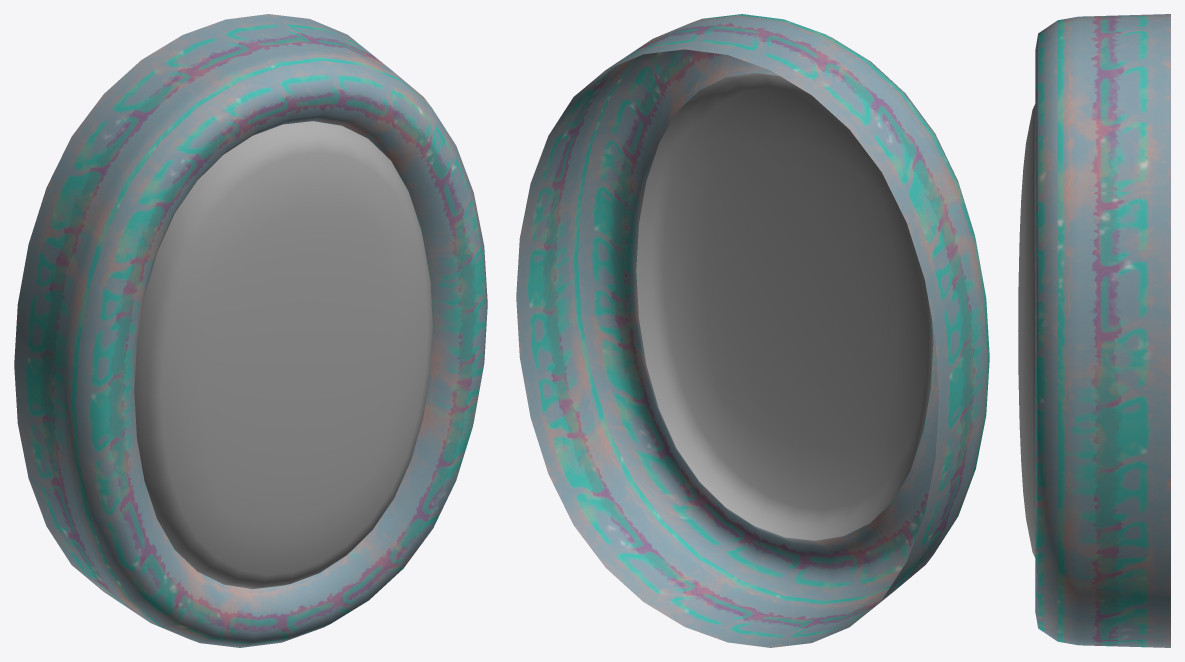
File: window_roof_02.fbx
3 views of the same model, side by side, from view 1: azimuth 30°, elevation 25°; view 2: azimuth 150°, elevation 25°; view 3: azimuth 270°, elevation 25° (orthographic).
Parts seen in each view (by area): view 1: frame, glass; view 2: frame, glass; view 3: frame, glass.
Part boxes in pixels (x1,y1,x2,y2): frame: (14,14,487,647); glass: (134,121,432,589); frame: (516,14,989,647); glass: (636,72,933,540); frame: (1035,14,1170,647); glass: (1018,104,1035,557).
Size of the model in its own units: 130 by 172 by 40.36.
2 materials, 1 textured.
